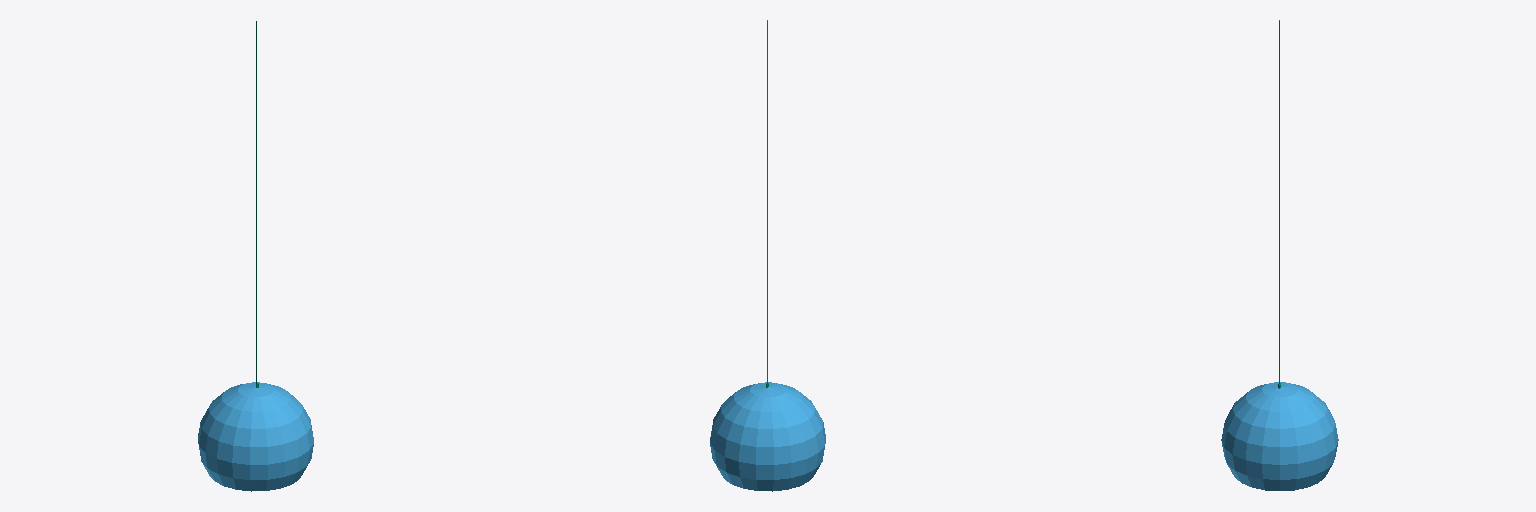
URDF robot description (partnet_ea5893e12134c6272f798bd8a3edd4de):
<robot name="partnet_ea5893e12134c6272f798bd8a3edd4de">
	<link name="base"><inertial><mass value="10" /><inertia ixx="1" ixy="0" ixz="0" iyy="1" iyz="0" izz="1" /></inertial></link>
	<link name="link_0">
		<visual name="lamp_shade-7">
			<origin xyz="0 0 0" />
			<geometry>
				<mesh filename="textured_objs/original-1.obj" />
			</geometry>
		</visual>
		<collision>
			<origin xyz="0 0 0" />
			<geometry>
				<mesh filename="textured_objs/original-1.obj" />
			</geometry>
		</collision>
	<inertial><mass value="10" /><inertia ixx="1" ixy="0" ixz="0" iyy="1" iyz="0" izz="1" /></inertial></link>
	<joint name="joint_0" type="continuous">
		<origin xyz="0 0 0" />
		<axis xyz="0 1 0" />
		<child link="link_0" />
		<parent link="link_1" />
	</joint>
	<link name="link_1">
		<visual name="chain-5">
			<origin xyz="0 0 0" />
			<geometry>
				<mesh filename="textured_objs/original-2.obj" />
			</geometry>
		</visual>
		<collision>
			<origin xyz="0 0 0" />
			<geometry>
				<mesh filename="textured_objs/original-2.obj" />
			</geometry>
		</collision>
	<inertial><mass value="10" /><inertia ixx="1" ixy="0" ixz="0" iyy="1" iyz="0" izz="1" /></inertial></link>
	<joint name="joint_1" type="fixed">
		<origin rpy="1.570796326794897 0 -1.570796326794897" xyz="0 0 0" />
		<child link="link_1" />
		<parent link="base" />
	</joint>
</robot>

--- Render facts (derived) ---
Views: 3 orthographic renders of the robot side by side, from view 1: azimuth 30°, elevation 25°; view 2: azimuth 150°, elevation 25°; view 3: azimuth 270°, elevation 25°.
Robot: partnet_ea5893e12134c6272f798bd8a3edd4de — 3 links, 2 joints (1 continuous, 1 fixed); root link base; default pose: all joints at 0.
Visible links, largest first — view 1: link_0; view 2: link_0; view 3: link_0.
Boxes of the visible links, x1,y1,x2,y2 form: link_0: (198,382,313,491); link_0: (710,382,825,491); link_0: (1221,382,1338,490).
Bounding box of the posed robot: 0.2804 × 0.2804 × 1.19 m (x, y, z).
2 mesh visuals loaded from 2 distinct referenced files (2 OBJ).